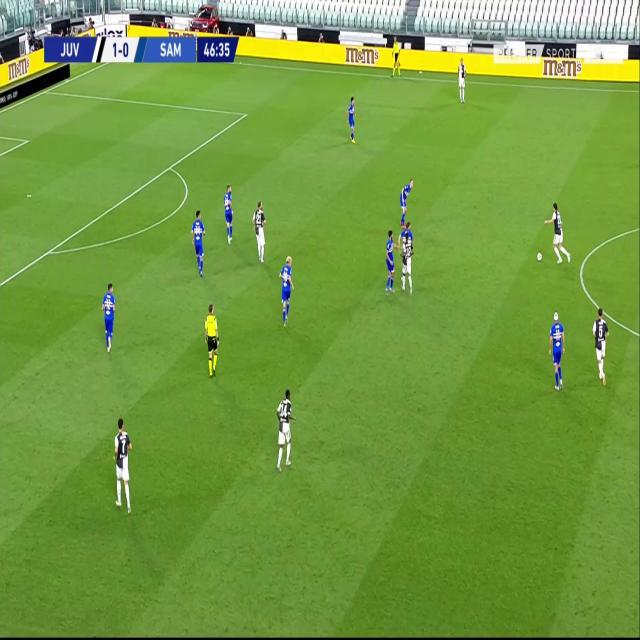ball: (536, 250, 543, 262)
player: (112, 414, 134, 515), (274, 386, 295, 471), (545, 201, 570, 265), (548, 307, 566, 391), (592, 304, 609, 385), (203, 301, 221, 376), (277, 252, 294, 329), (100, 279, 117, 352), (190, 207, 207, 277), (399, 227, 414, 297), (251, 199, 267, 263), (383, 226, 398, 293), (223, 181, 235, 245), (398, 177, 413, 222), (346, 94, 358, 144), (456, 56, 467, 102), (391, 36, 402, 76), (398, 221, 414, 244)
